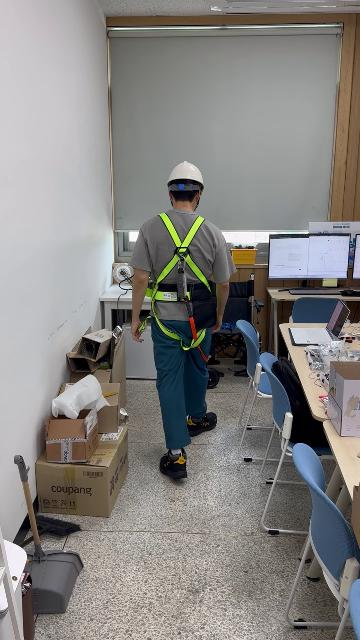helmet_worn: (166, 159, 205, 191)
shoe_worn: (159, 447, 187, 479), (186, 412, 216, 437)
vest_worn: (142, 214, 216, 349)
